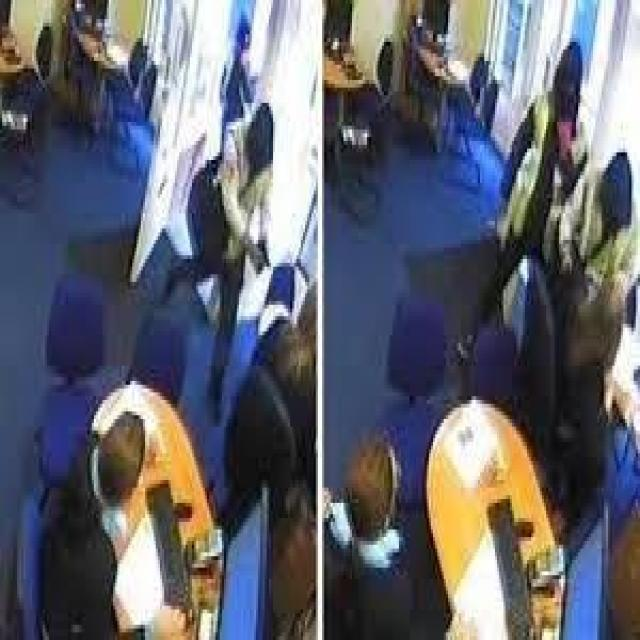weapon: (250, 232, 272, 270)
